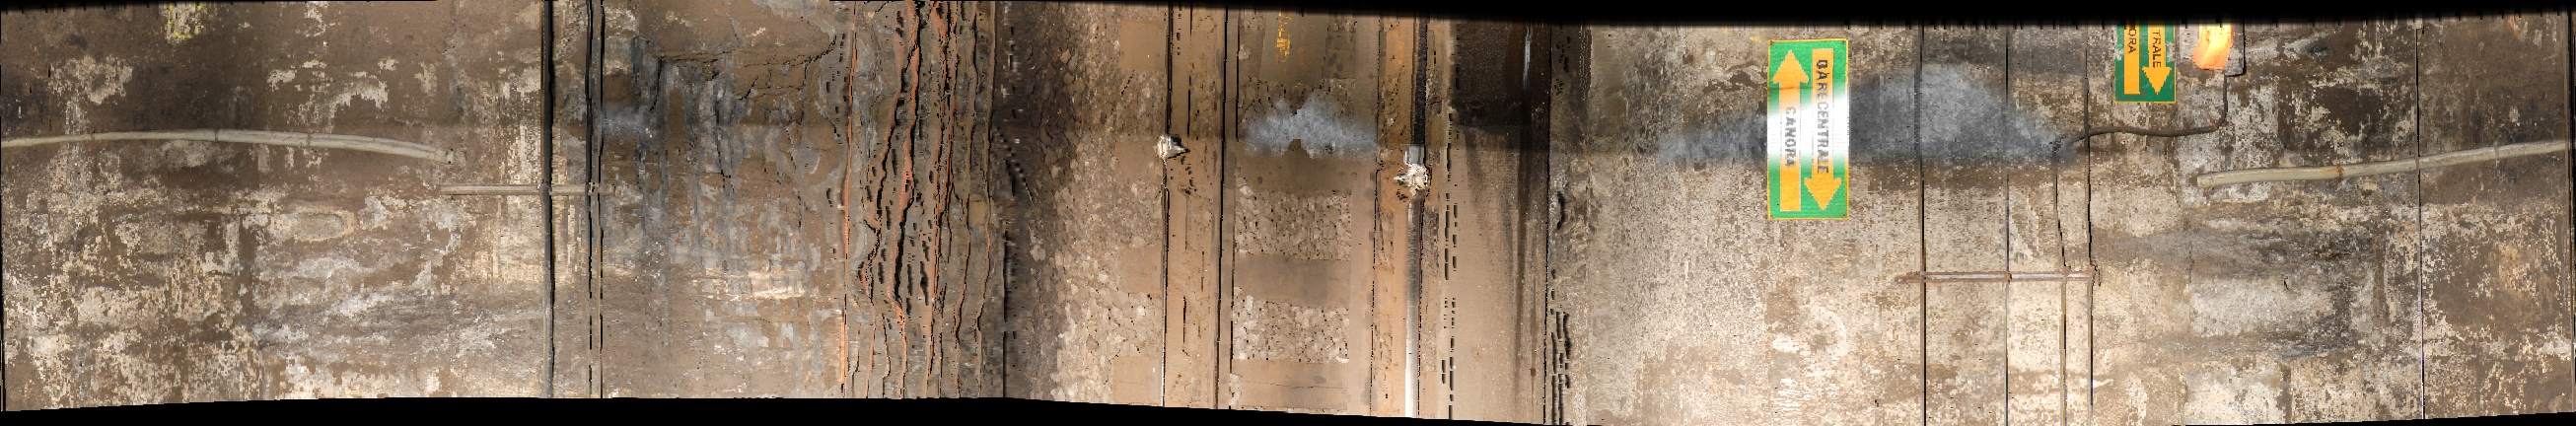pipes: (849, 10, 1015, 426), (539, 2, 603, 411), (2195, 135, 2576, 178)
sign: (1768, 46, 1850, 219), (2116, 26, 2177, 105), (2185, 25, 2236, 74)
tracks: (1171, 2, 1459, 426)
